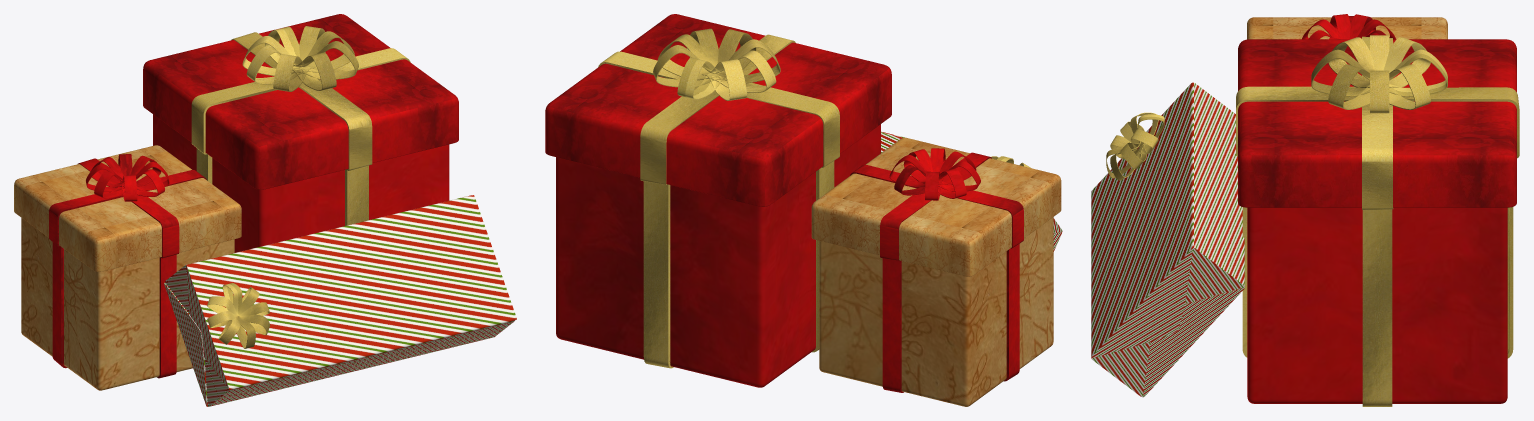
File: gifts.glb
The picture shows the model from 3 angles, left to right: view 1: azimuth 30°, elevation 25°; view 2: azimuth 150°, elevation 25°; view 3: azimuth 270°, elevation 25°; orthographic projection. The views are drawn at different scales.
Parts seen in each view (by area): view 1: Box005_Material #28_0, Box002, Box003, Box004, Box001, 1_Material #26_0, 003_Material #25_0, 004_Material #25_0, 002_Material #26_0, Line003_Material #26_0, Line005_Material #26_0, Line002_Material #26_0 (+9 smaller); view 2: Box001, Box002, Box003, Box004, 1_Material #26_0, 002_Material #26_0, 003_Material #25_0, 004_Material #25_0, Line003_Material #26_0, Line004_Material #26_0, Line002_Material #26_0, Line005_Material #26_0 (+4 smaller); view 3: Box001, Box002, Box005_Material #28_0, 002_Material #26_0, 1_Material #26_0, Box004, Line005_Material #26_0, Line004_Material #26_0, Line003_Material #26_0, Line002_Material #26_0, Line013_Material #26_0, Line010_Material #26_0 (+5 smaller).
Part boxes in pixels (x1,y1,x2,y2): Box005_Material #28_0: [164, 195, 516, 406]; Box002: [143, 14, 458, 189]; Box003: [21, 218, 234, 390]; Box004: [14, 145, 241, 271]; Box001: [153, 114, 449, 252]; 1_Material #26_0: [191, 32, 410, 170]; 003_Material #25_0: [52, 242, 176, 378]; 004_Material #25_0: [49, 158, 206, 258]; 002_Material #26_0: [196, 148, 368, 225]; Line003_Material #26_0: [265, 26, 336, 90]; Line005_Material #26_0: [273, 26, 327, 91]; Line002_Material #26_0: [246, 31, 354, 84]; Box001: [556, 124, 880, 387]; Box002: [545, 14, 891, 206]; Box003: [819, 217, 1053, 406]; Box004: [811, 137, 1061, 276]; 1_Material #26_0: [598, 34, 839, 184]; 002_Material #26_0: [643, 161, 834, 368]; 003_Material #25_0: [882, 243, 1019, 392]; 004_Material #25_0: [850, 152, 1023, 260]; Line003_Material #26_0: [677, 29, 756, 99]; Line004_Material #26_0: [687, 28, 746, 100]; Line002_Material #26_0: [657, 34, 776, 92]; Line005_Material #26_0: [653, 39, 780, 87]; Box001: [1247, 207, 1507, 403]; Box002: [1238, 39, 1516, 207]; Box005_Material #28_0: [1091, 82, 1244, 397]; 002_Material #26_0: [1242, 207, 1513, 406]; 1_Material #26_0: [1236, 36, 1519, 209]; Box004: [1247, 17, 1447, 39]; Line005_Material #26_0: [1328, 37, 1430, 109]; Line004_Material #26_0: [1328, 37, 1430, 109]; Line003_Material #26_0: [1311, 49, 1447, 96]; Line002_Material #26_0: [1370, 35, 1389, 113]; Line013_Material #26_0: [1110, 129, 1158, 158]; Line010_Material #26_0: [1120, 121, 1146, 169].
Bounding box in the file's own units: 6.7 × 4.47 × 5.76.
Materials: 6 (4 with a texture image).
